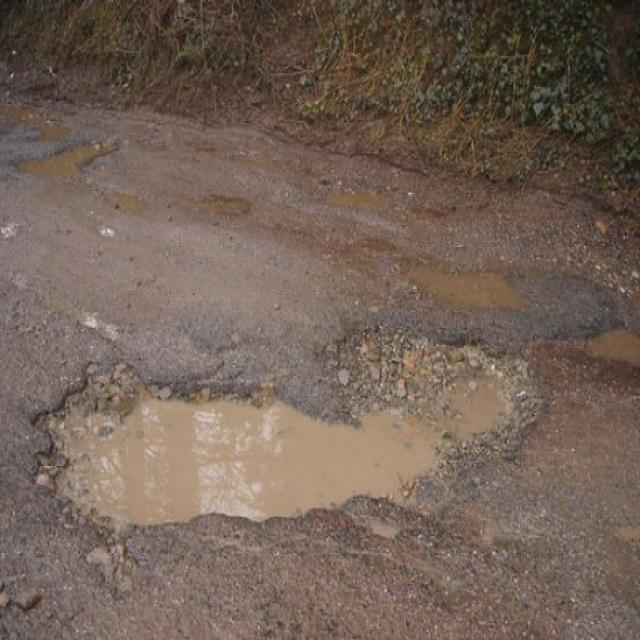pothole: (28, 316, 554, 546)
